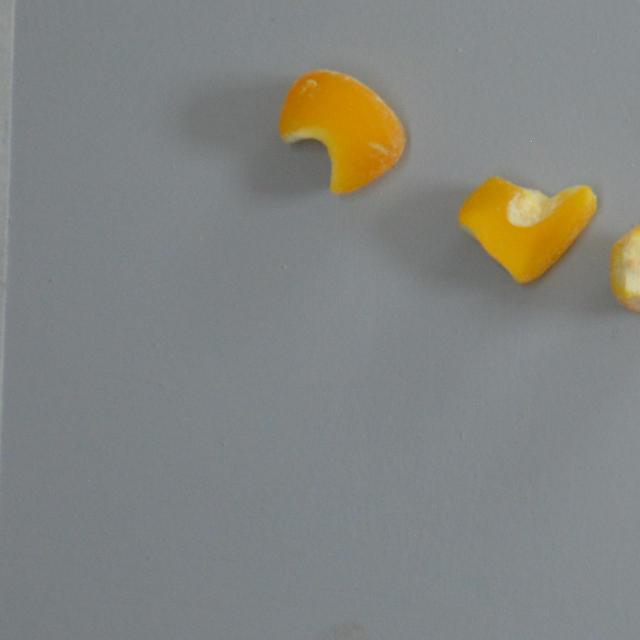no_canjicado: (276, 67, 406, 195), (606, 220, 640, 314)
no_desgerminado: (456, 161, 597, 286)
